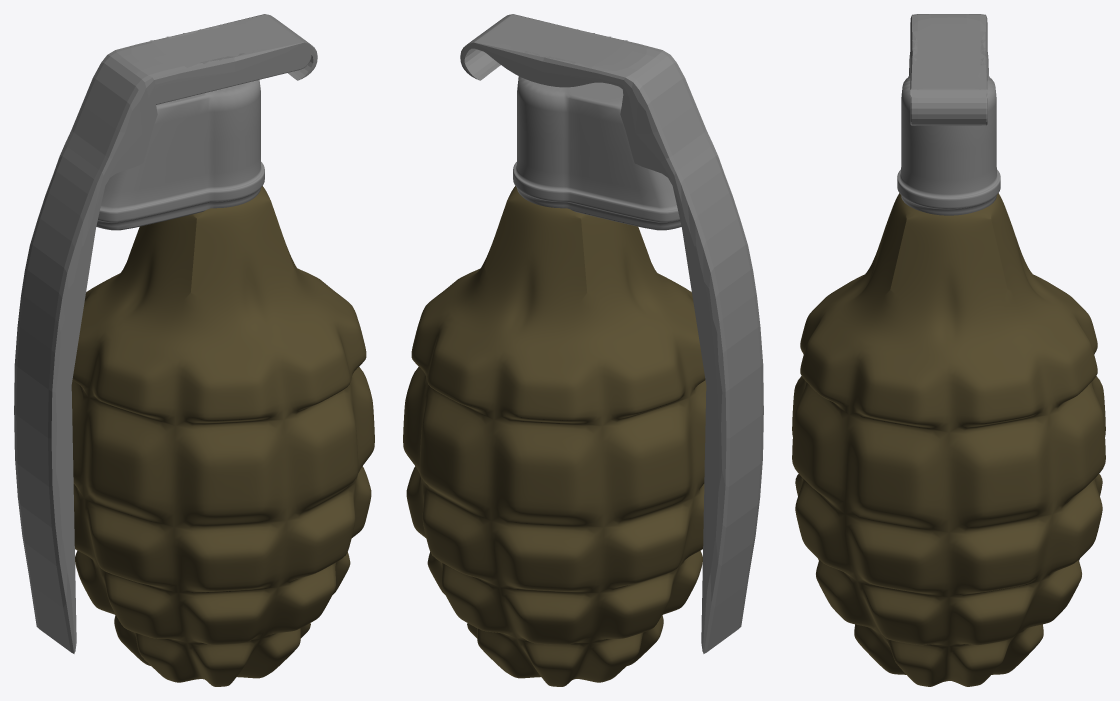
The model's file is Grenade.fbx.
3 views of the same model, side by side, from view 1: azimuth 30°, elevation 25°; view 2: azimuth 150°, elevation 25°; view 3: azimuth 270°, elevation 25° (orthographic).
Visible parts, largest first — view 1: Grenade Base; view 2: Grenade Base; view 3: Grenade Base.
Boxes of the visible parts, x1,y1,x2,y2 form: Grenade Base: [14, 14, 374, 686]; Grenade Base: [403, 14, 763, 686]; Grenade Base: [792, 14, 1105, 686].
Size of the model in its own units: 251 by 469 by 217.
